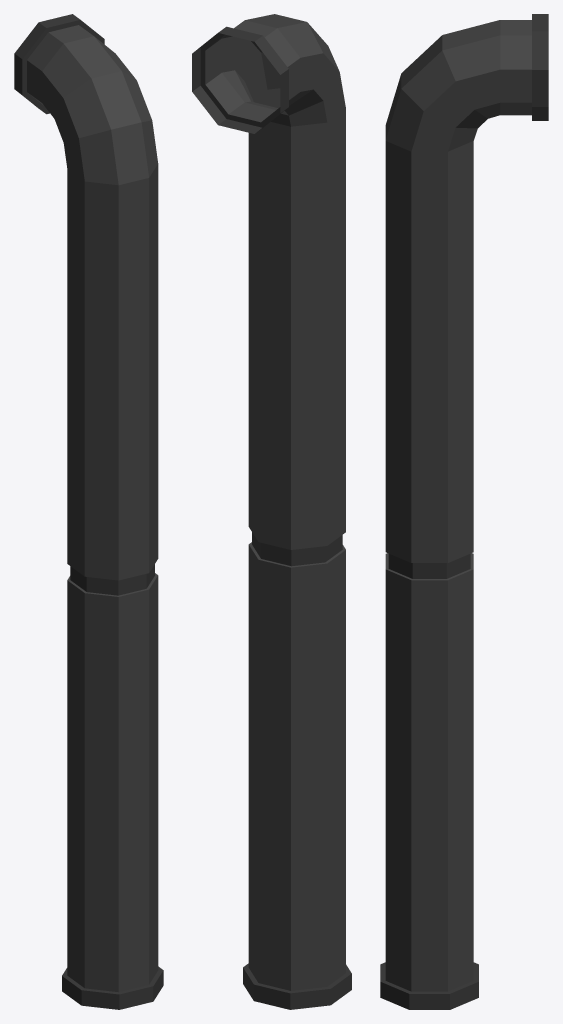
Rendered from SM_Buildings_Part_07.fbx.
3 views of the same model, side by side, from view 1: azimuth 30°, elevation 25°; view 2: azimuth 150°, elevation 25°; view 3: azimuth 270°, elevation 25° (orthographic). The views are drawn at different scales.
Visible parts, largest first — view 1: SM_Buildings_Part_07; view 2: SM_Buildings_Part_07; view 3: SM_Buildings_Part_07.
Part boxes in pixels (x1,y1,x2,y2): SM_Buildings_Part_07: (14,14,163,1009); SM_Buildings_Part_07: (192,14,351,1009); SM_Buildings_Part_07: (380,14,548,1009).
Bounding box in the file's own units: 17.76 × 191 × 30.15.
